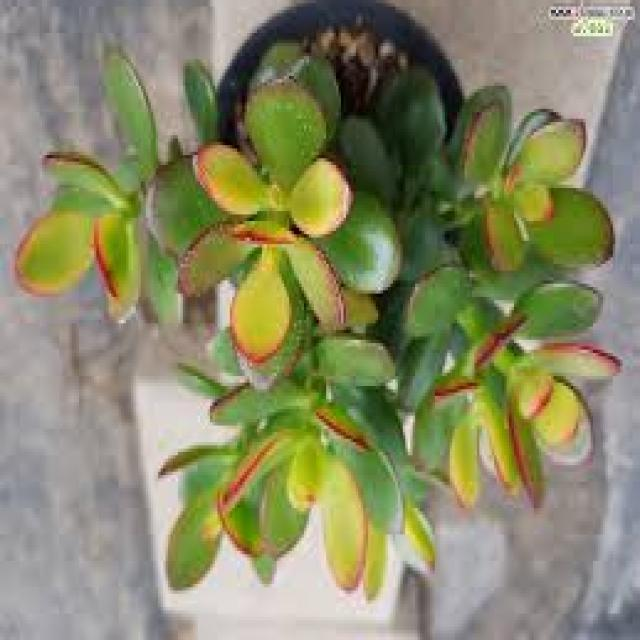Crassula: (161, 335, 434, 600), (180, 60, 399, 380), (405, 88, 613, 345), (434, 282, 619, 508), (15, 52, 159, 323)
